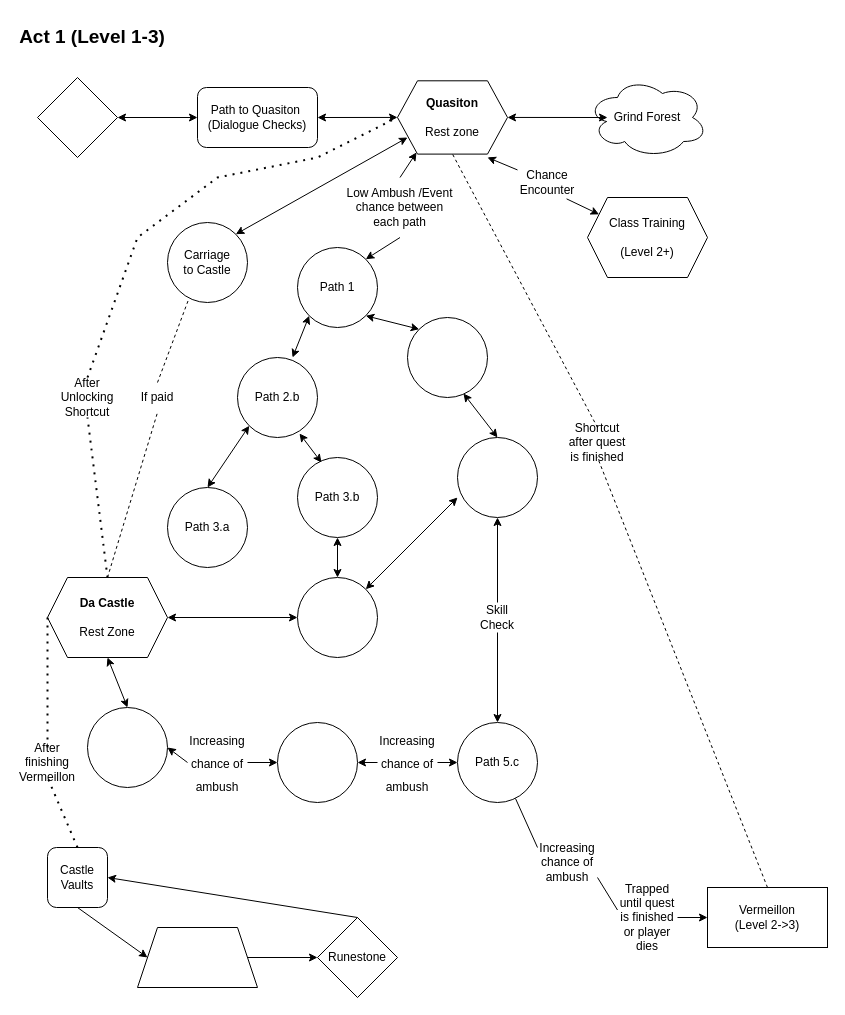
Image size: 845x1015. Some labels were removed from this diagram. Each missing label, with the centre of its shape:
Boss Fight (Level 4): point 197,957
Path 2.a: point 447,357
Path 3.c Rez Shrine?: point 497,477
Path 4.a: point 337,617
Path 5.a: point 127,747
Path 5.b: point 317,762
Portal to Nexus: point 77,117
